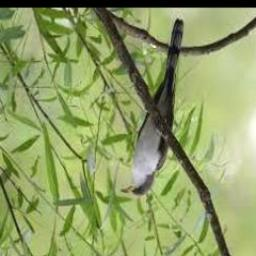Cuckoo: (122, 21, 185, 196)
